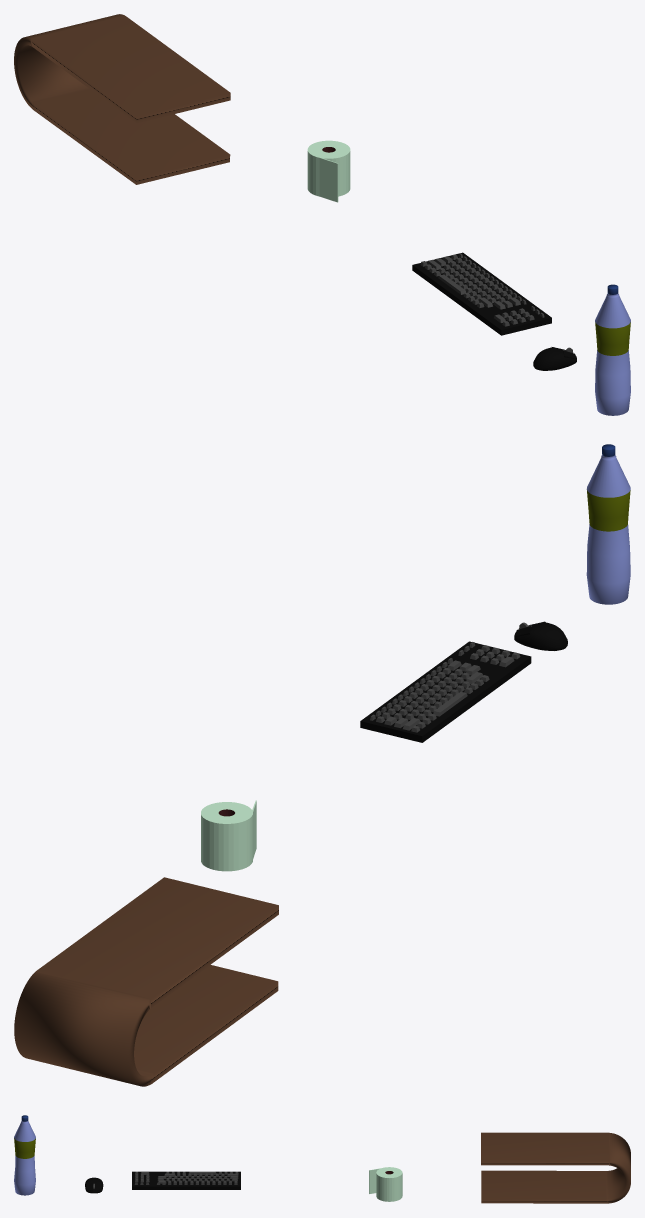
The model's file is env.fbx.
3 renders of one model, top to bottom at view 1: azimuth 30°, elevation 25°; view 2: azimuth 150°, elevation 25°; view 3: azimuth 270°, elevation 25°, orthographic. The views are drawn at different scales.
Visible parts, largest first — view 1: Table, Keyboard, bottleofwater, Toilet paper, Mouse; view 2: Table, Keyboard, bottleofwater, Toilet paper, Mouse; view 3: Table, Keyboard, bottleofwater, Toilet paper, Mouse.
Boxes of the visible parts, x1,y1,x2,y2 form: Table: (14, 14, 230, 184); Keyboard: (412, 252, 551, 335); bottleofwater: (595, 284, 630, 415); Toilet paper: (307, 140, 350, 202); Mouse: (533, 347, 576, 370); Table: (14, 877, 278, 1086); Keyboard: (360, 641, 531, 742); bottleofwater: (586, 444, 630, 604); Toilet paper: (201, 800, 256, 871); Mouse: (514, 621, 567, 650); Table: (481, 1132, 630, 1203); Keyboard: (132, 1171, 240, 1189); bottleofwater: (14, 1115, 35, 1195); Toilet paper: (369, 1167, 402, 1201); Mouse: (85, 1177, 103, 1193).
Size of the model in its own units: 8.7 by 8.99 by 56.
